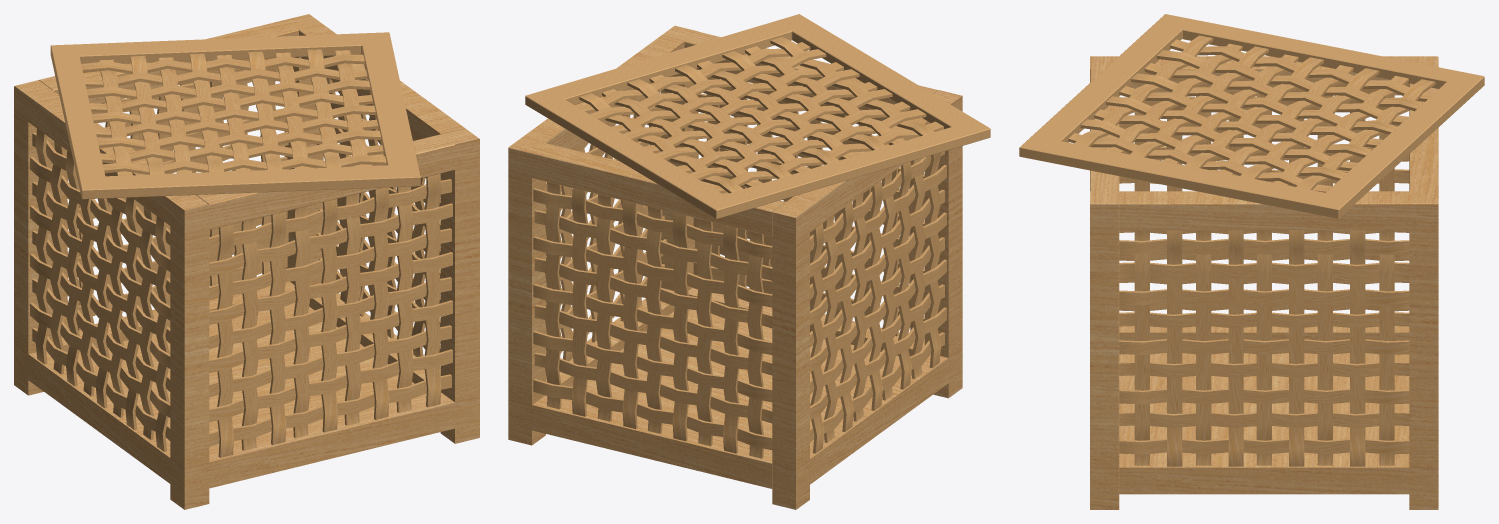
Rendered from table_1.glb.
3 renders of one model, left to right at view 1: azimuth 30°, elevation 25°; view 2: azimuth 150°, elevation 25°; view 3: azimuth 270°, elevation 25°, orthographic. The views are drawn at different scales.
Visible parts, largest first — view 1: IKEA-HOL_side_table_basket-3D.001; view 2: IKEA-HOL_side_table_basket-3D.001; view 3: IKEA-HOL_side_table_basket-3D.001.
Boxes of the visible parts, x1,y1,x2,y2 form: IKEA-HOL_side_table_basket-3D.001: (14, 14, 479, 509); IKEA-HOL_side_table_basket-3D.001: (508, 14, 990, 509); IKEA-HOL_side_table_basket-3D.001: (1019, 14, 1484, 509).
Size of the model in its own units: 664 by 500 by 667.
Materials: 1 (1 with a texture image).
